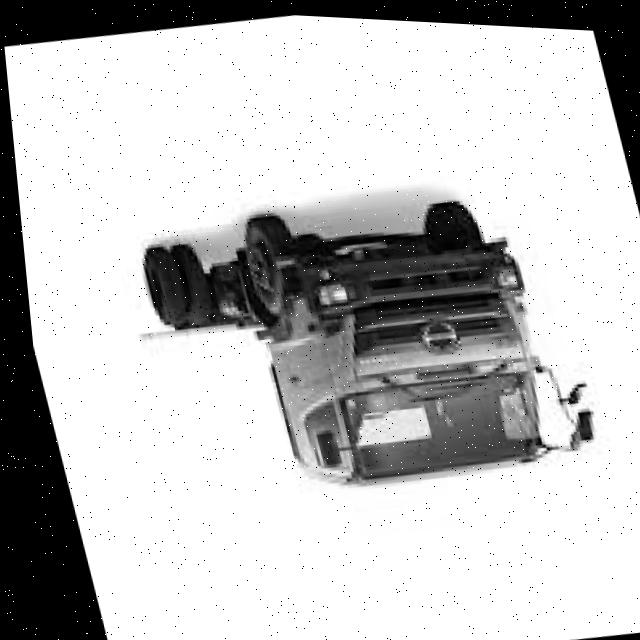truck: (206, 174, 619, 543)
